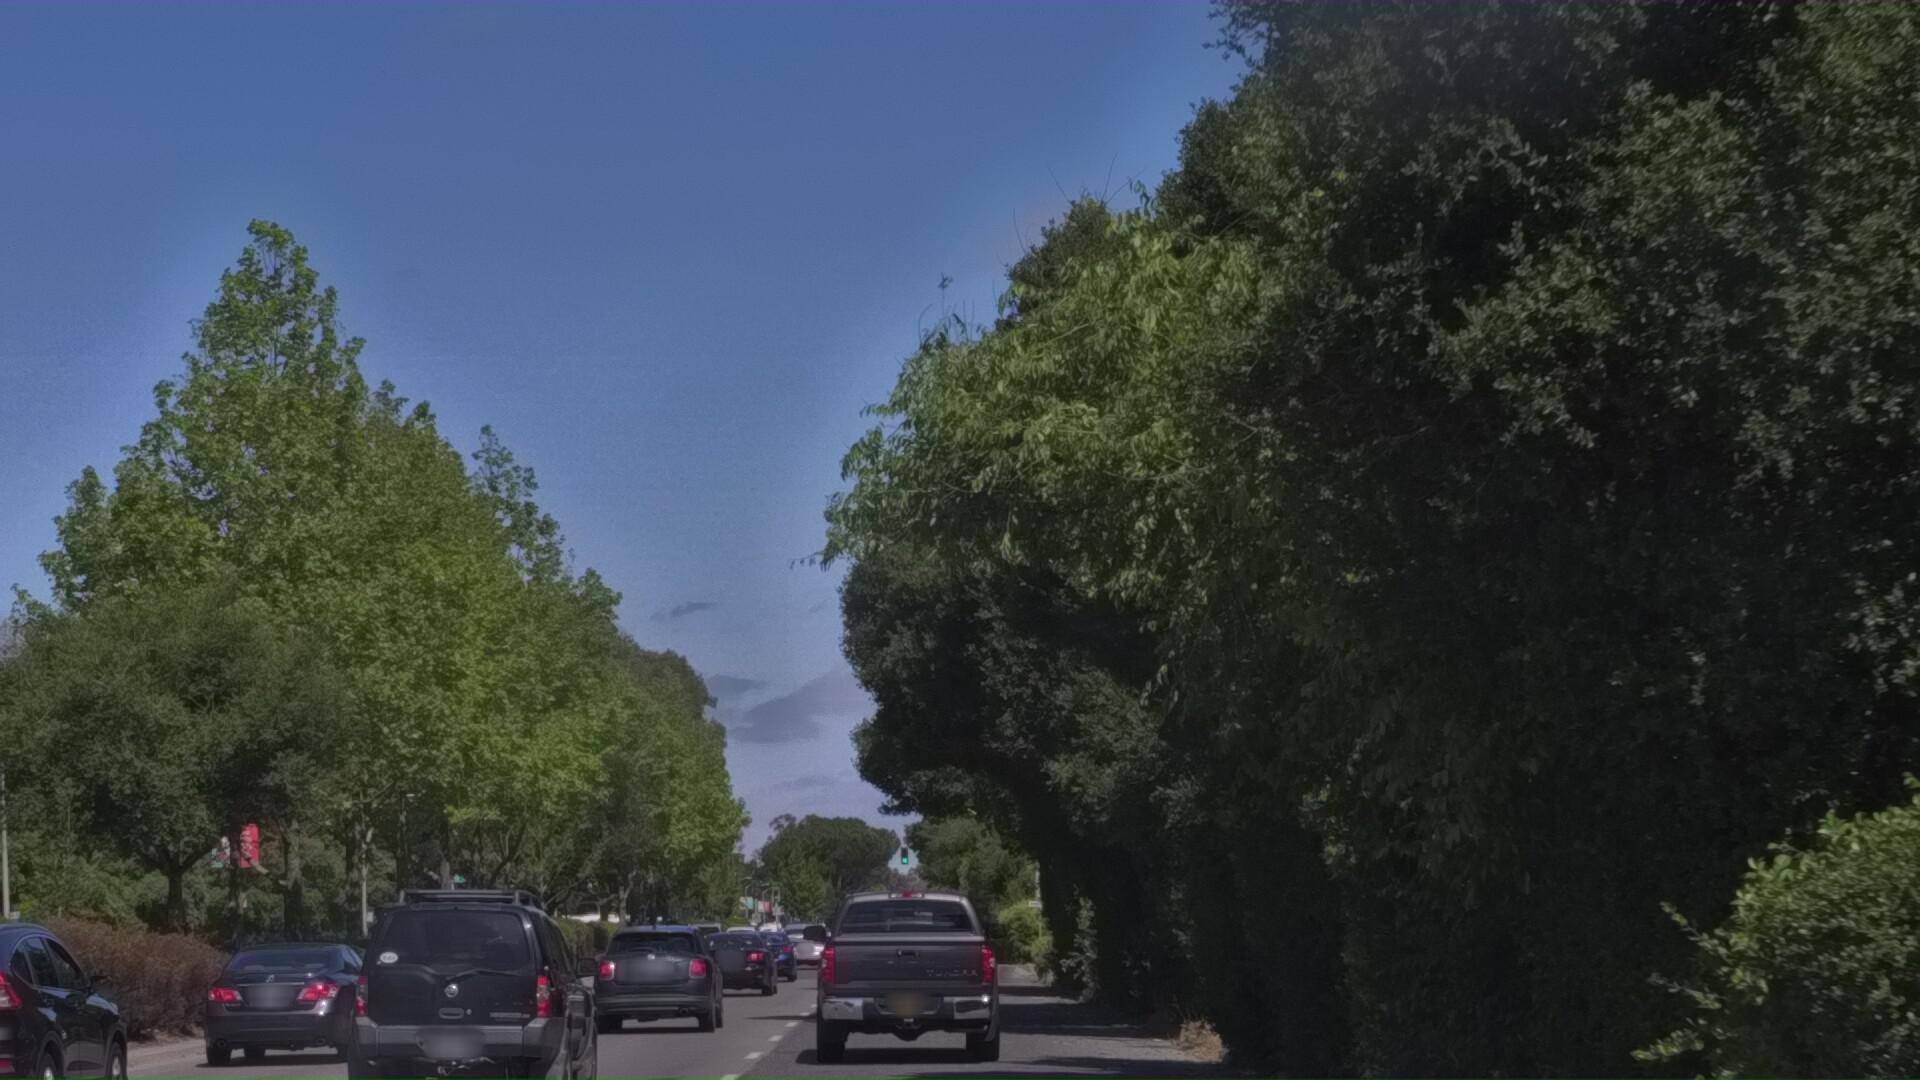car: (349, 909, 632, 1080), (814, 905, 1022, 1080), (214, 972, 414, 1080), (596, 953, 742, 1080), (703, 977, 798, 1058)
